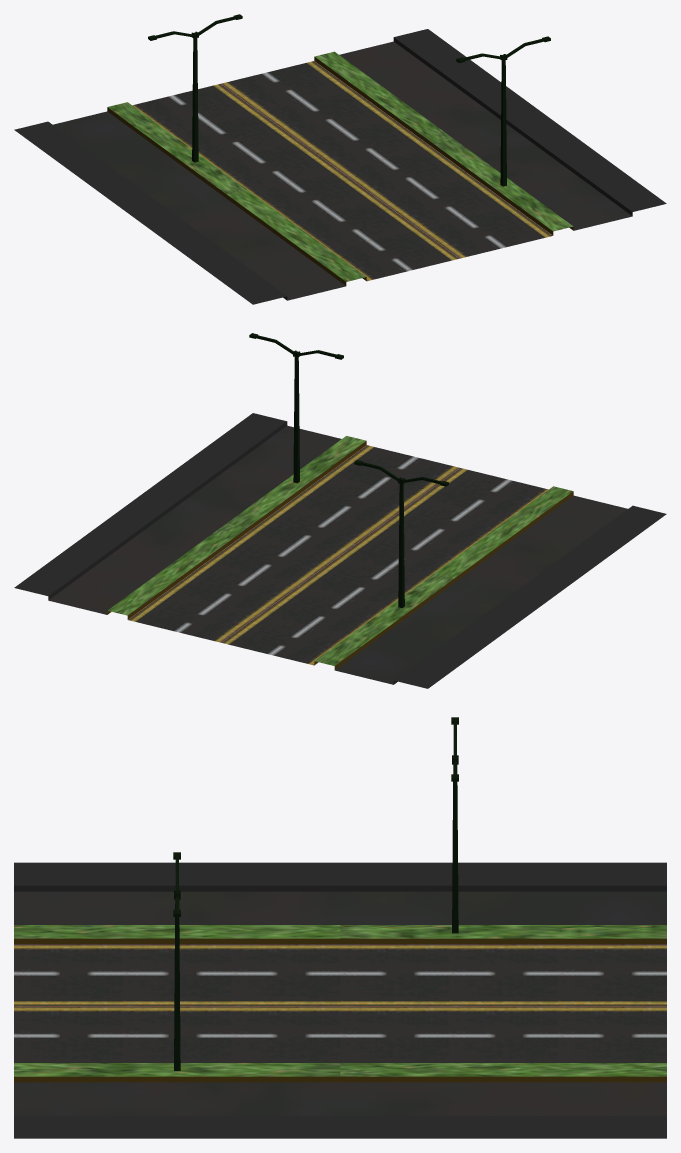
The model's file is city_main.obj.
3 views of the same model, one above another, from view 1: azimuth 30°, elevation 25°; view 2: azimuth 150°, elevation 25°; view 3: azimuth 270°, elevation 25° (orthographic). The views are drawn at different scales.
Parts seen in each view (by area): view 1: city_main_Plane.002; view 2: city_main_Plane.002; view 3: city_main_Plane.002.
Part boxes in pixels (left/top/right/bottom): city_main_Plane.002: left=14, top=14, right=666, bottom=304; city_main_Plane.002: left=14, top=333, right=666, bottom=688; city_main_Plane.002: left=14, top=717, right=666, bottom=1138.
Size of the model in its own units: 1.6 by 0.5207 by 1.6.
